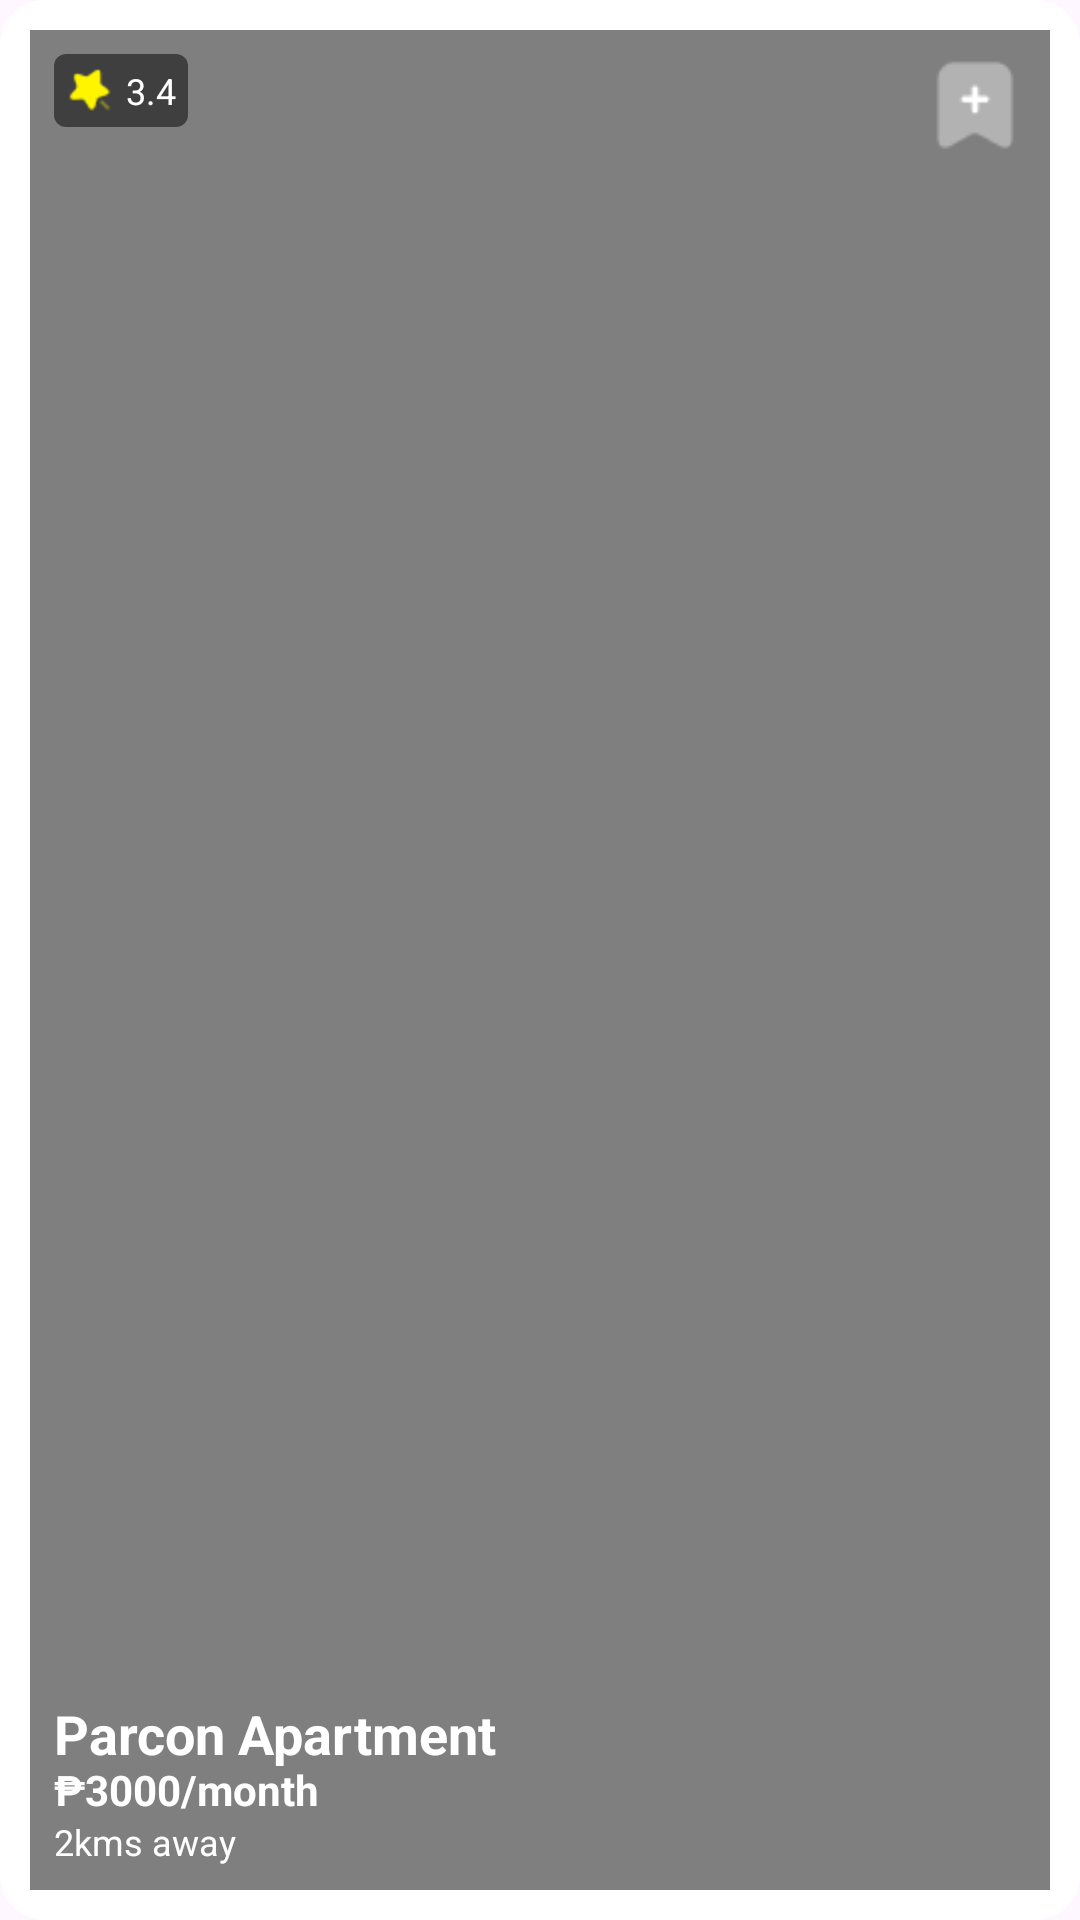

Icon click points for this 1080×1920 phone screenshot, format [x,y]:
archive add: [975,105]
stars: [89,90]
